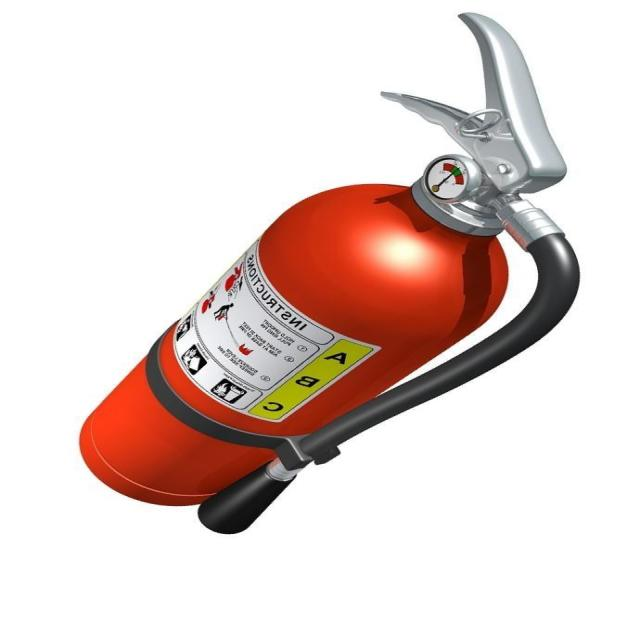fire_extinguisher: (70, 9, 584, 538)
